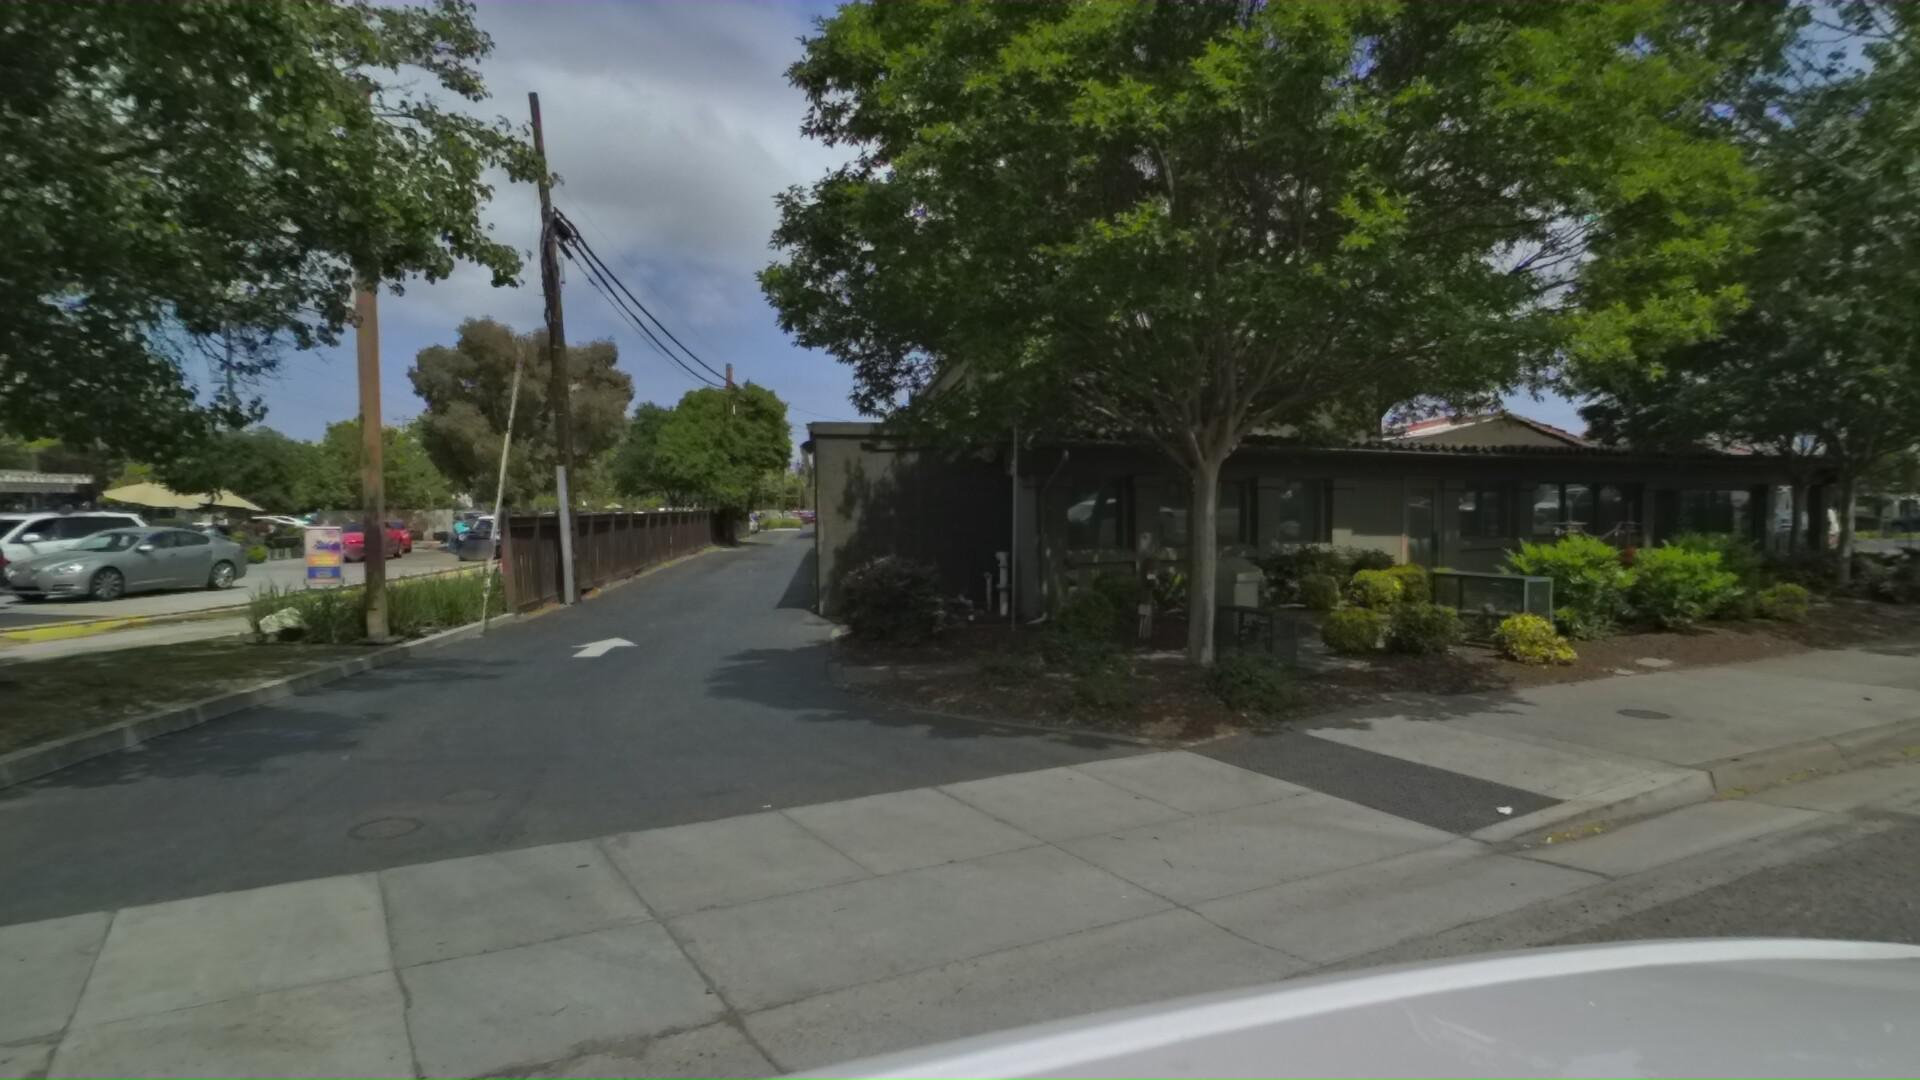car: (9, 516, 286, 604), (0, 502, 191, 601), (0, 502, 61, 647), (465, 506, 556, 558), (334, 514, 426, 563)
